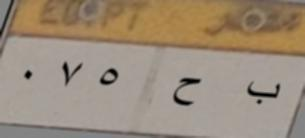0: (14, 64, 39, 95)
5: (90, 64, 129, 92)
7: (54, 56, 86, 92)
7aa: (164, 71, 207, 118)
baa: (241, 76, 286, 108)
